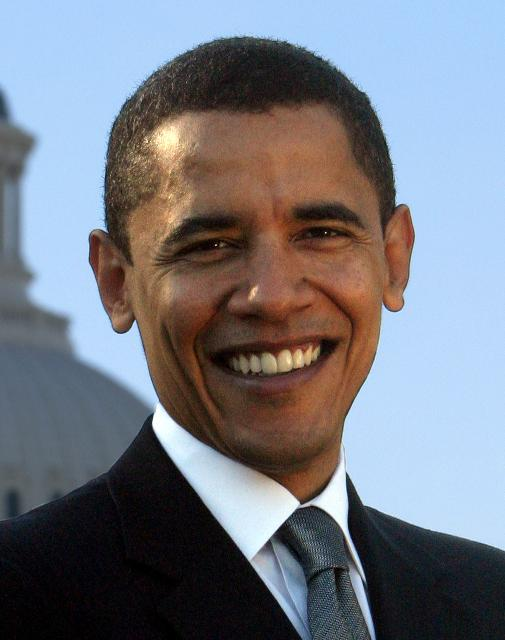gummy_smile: (308, 273, 351, 321)
sad_smile: (190, 368, 223, 420), (330, 338, 356, 389)
